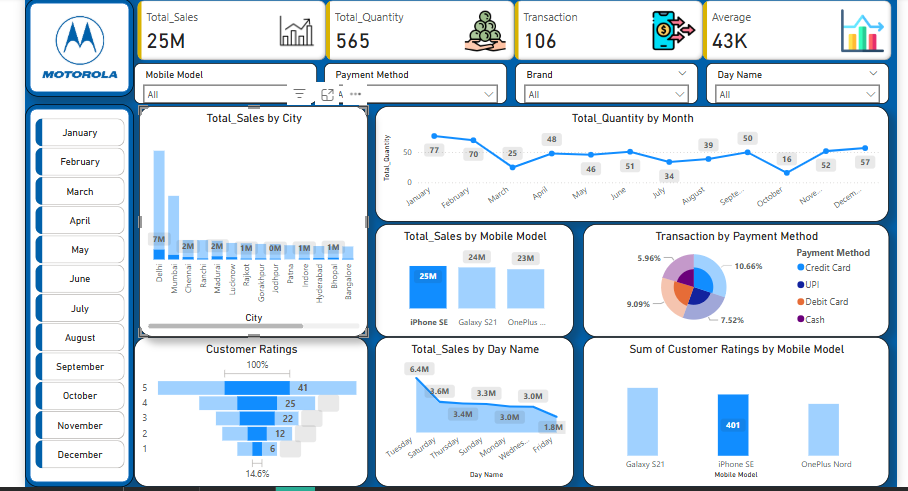

Layout of this report page (visuals, bound fields, positions):
{"tool":"powerbi","page":{"name":"Page 1","canvas":[1280,720],"ordinal":0},"visuals":[{"type":"shape","box":[0,1.5,160.2,145.5],"z":0},{"type":"image","box":[20.6,1.5,120.5,144],"z":1000},{"type":"shape","box":[0,157.2,160.2,562.8],"z":2000},{"type":"advancedSlicerVisual","fields":{"Values":["Sheet1.Date.Variation.Date Hierarchy.Month"]},"box":[10.3,173.4,141.1,530.4],"z":3000},{"type":"cardVisual","fields":{"Data":["Sheet1.Total_Sales","Sheet1.Total_Quantity","Sheet1.Transaction","Sheet1.Average"]},"box":[160.2,0,1119.7,98.4],"z":4000},{"type":"lineChart","fields":{"Y":["Sheet1.Total_Quantity"],"Category":["Sheet1.Date.Variation.Date Hierarchy.Month","Sheet1.Date.Variation.Date Hierarchy.Day"]},"box":[514.3,160.2,755.3,170.4],"z":6000},{"type":"clusteredColumnChart","fields":{"Category":["Sheet1.Mobile Model"],"Y":["Sheet1.Total_Sales"]},"box":[514.3,333.6,292.4,166],"z":7000},{"type":"pieChart","fields":{"Y":["Sheet1.Transaction"],"Category":["Sheet1.Payment Method"]},"box":[819.9,333.6,449.6,166],"z":8000},{"type":"funnel","title":"Customer Ratings ","fields":{"Category":["Sheet1.Customer Ratings"],"Y":["CountNonNull(Sheet1.Customer Ratings)"]},"box":[160.2,499.6,343.8,220.4],"z":9000},{"type":"areaChart","fields":{"Category":["Sheet1.Day Name"],"Y":["Sheet1.Total_Sales"]},"box":[514.3,499.6,292.4,220.4],"z":10000},{"type":"ribbonChart","fields":{"Category":["Sheet1.Mobile Model"],"Y":["Sum(Sheet1.Customer Ratings)"]},"box":[819.9,499.6,449.6,220.4],"z":11000},{"type":"slicer","fields":{"Values":["Sheet1.Mobile Model"]},"box":[160.2,97,268.9,60.2],"z":12000},{"type":"slicer","fields":{"Values":["Sheet1.Payment Method"]},"box":[439.3,97,268.9,60.2],"z":13000},{"type":"slicer","fields":{"Values":["Sheet1.Brand"]},"box":[720,97,268.9,60.2],"z":14000},{"type":"slicer","fields":{"Values":["Sheet1.Day Name"]},"box":[1000.7,97,268.9,60.2],"z":15000},{"type":"clusteredColumnChart","fields":{"Y":["Sheet1.Total_Sales"],"Category":["Sheet1.City"]},"box":[167.5,160.2,336.5,339.4],"z":15001}]}

Visuals, with their boxes in screenshot pixels (x1, y1, x2, y2):
shape: box(26, 0, 134, 97)
image: box(40, 0, 121, 96)
shape: box(26, 104, 134, 483)
advancedSlicerVisual - Sheet1.Date.Variation.Date Hierarchy.Month: box(33, 114, 128, 472)
cardVisual - Sheet1.Total_Sales x Sheet1.Total_Quantity: box(134, 0, 888, 64)
lineChart - Sheet1.Total_Quantity x Sheet1.Date.Variation.Date Hierarchy.Month: box(372, 106, 881, 220)
clusteredColumnChart - Sheet1.Mobile Model x Sheet1.Total_Sales: box(372, 222, 569, 334)
pieChart - Sheet1.Transaction x Sheet1.Payment Method: box(578, 222, 881, 334)
"Customer Ratings " funnel: box(134, 334, 366, 483)
areaChart - Sheet1.Day Name x Sheet1.Total_Sales: box(372, 334, 569, 483)
ribbonChart - Sheet1.Mobile Model x Sum(Sheet1.Customer Ratings): box(578, 334, 881, 483)
slicer - Sheet1.Mobile Model: box(134, 63, 315, 104)
slicer - Sheet1.Payment Method: box(322, 63, 503, 104)
slicer - Sheet1.Brand: box(511, 63, 692, 104)
slicer - Sheet1.Day Name: box(700, 63, 881, 104)
clusteredColumnChart - Sheet1.Total_Sales x Sheet1.City: box(139, 106, 366, 334)
